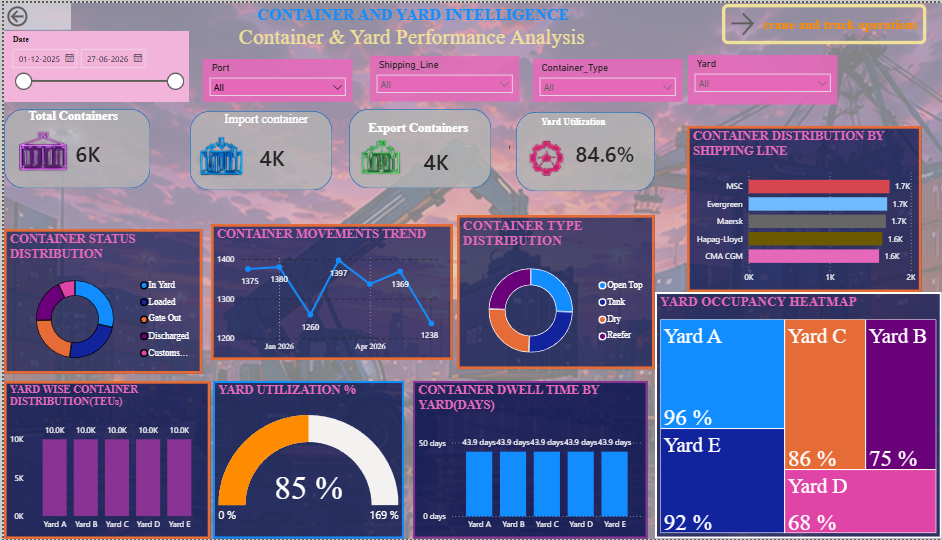

This screenshot's page, from the dashboard's own definition file:
{"tool":"powerbi","page":{"name":"Container and Yard Intelligence","canvas":[1400,800],"ordinal":1},"visuals":[{"type":"textbox","box":[295.7,0,695.7,84.1],"z":0},{"type":"slicer","fields":{"Values":["portpulse_db dim_port.Port_Name"]},"box":[296.6,83.1,223.2,63.8],"z":1000},{"type":"slicer","fields":{"Values":["portpulse_db dim_ship.Shipping_Line"]},"box":[545.8,79.7,223.2,68.1],"z":2000},{"type":"slicer","fields":{"Values":["portpulse_db fact_yard_utilization.Yard_ID"]},"box":[1020.3,78,223.2,73.9],"z":3000},{"type":"slicer","fields":{"Values":["portpulse_db dim_container.Container_Type"]},"box":[789.8,83.1,223.2,63.8],"z":4000},{"type":"donutChart","title":"CONTAINER STATUS DISTRIBUTION","fields":{"Category":["portpulse_db fact_container_movement.Status"],"Y":["CountNonNull(portpulse_db fact_container_movement.Container_ID)"]},"box":[0,336.7,295.7,215.9],"z":5000},{"type":"lineChart","title":"CONTAINER MOVEMENTS TREND","fields":{"Y":["portpulse_db fact_container_movement.Total Container Movements"],"Category":["portpulse_db dim_date.Date.Variation.Date Hierarchy.Year","portpulse_db dim_date.Date.Variation.Date Hierarchy.Month"]},"box":[308.5,330.5,360.9,202.9],"z":6000},{"type":"donutChart","title":"CONTAINER TYPE DISTRIBUTION","fields":{"Category":["portpulse_db dim_container.Container_Type"],"Y":["CountNonNull(portpulse_db fact_container_movement.Container_ID)"]},"box":[676.7,316.7,295,230],"z":7000},{"type":"barChart","title":"CONTAINER DISTRIBUTION BY SHIPPING LINE","fields":{"Category":["portpulse_db dim_ship.Shipping_Line"],"Y":["CountNonNull(portpulse_db fact_container_movement.Container_ID)"]},"box":[1020,183.3,350,248.3],"z":8000},{"type":"columnChart","title":"YARD WISE CONTAINER DISTRIBUTION(TEUs)","fields":{"Y":["CountNonNull(portpulse_db fact_container_movement.Container_ID)"],"Category":["portpulse_db fact_yard_utilization.Yard_ID"]},"box":[0,564.4,308.5,235.6],"z":9000},{"type":"gauge","title":"YARD UTILIZATION  %","fields":{"Y":["Avg(portpulse_db fact_yard_utilization.Utilization_Percentage)"]},"box":[311.9,564.4,285,235],"z":10000},{"type":"columnChart","title":"CONTAINER DWELL TIME BY YARD(DAYS)","fields":{"Category":["portpulse_db fact_yard_utilization.Yard_ID"],"Y":["portpulse_db fact_container_movement.Avg Dwell Time"]},"box":[610.2,564.4,350,235],"z":11000},{"type":"treemap","title":"YARD OCCUPANCY HEATMAP","fields":{"Group":["portpulse_db fact_yard_utilization.Yard_ID"],"Values":["Avg(portpulse_db fact_yard_utilization.Utilization_Percentage)"]},"box":[971.2,431.8,427.7,367.7],"z":12000},{"type":"shape","box":[0,158.5,218.5,118.5],"z":13000},{"type":"actionButton","box":[1071.7,1.7,305,60],"z":14000},{"type":"shape","box":[515.4,158.5,212.3,118.5],"z":15000},{"type":"shape","box":[764.6,163.1,207.7,118.5],"z":16000},{"type":"shape","box":[276.9,161.5,212.3,118.5],"z":17000},{"type":"textbox","title":"Total Containers","box":[30.8,158.5,156.9,33.8],"z":18000},{"type":"image","box":[4.6,175.4,107.7,92.3],"z":19000},{"type":"cardVisual","fields":{"Data":["portpulse_db fact_container_movement.Total Container Movements"]},"box":[76.9,175.4,121.5,92.3],"z":20000},{"type":"textbox","title":"Import container","box":[324.6,163.1,138.5,33.8],"z":21000},{"type":"image","box":[281.5,181.5,84.6,92.3],"z":22000},{"type":"cardVisual","fields":{"Data":["portpulse_db fact_container_movement.Import Containers"]},"box":[352.3,181.5,136.9,92.3],"z":23000},{"type":"textbox","title":"Export Containers","box":[538.5,175.4,161.5,43.1],"z":24000},{"type":"image","box":[503.1,192.3,118.5,75.4],"z":25000},{"type":"cardVisual","fields":{"Data":["portpulse_db fact_container_movement.Export Containers"]},"box":[596.9,196.9,123.1,75.4],"z":26000},{"type":"textbox","box":[796.9,163.1,136.9,33.8],"z":27000},{"type":"image","box":[744.6,183.1,103.1,96.9],"z":28000},{"type":"cardVisual","fields":{"Data":["portpulse_db fact_yard_utilization.Avg Yard Utilization"]},"box":[824.6,166.2,153.8,113.8],"z":29000},{"type":"slicer","fields":{"Values":["portpulse_db dim_date.Date_Time"]},"box":[0,52.2,276.3,105.1],"z":30000},{"type":"actionButton","box":[0,0,100,40],"z":31000}]}

Visuals, with their boxes in screenshot pixels (x1, y1, x2, y2), scaled from the page's 1400x800 canvas onto the 942x540 screenshot:
textbox: detection(199, 0, 667, 57)
slicer - portpulse_db dim_port.Port_Name: detection(200, 56, 350, 99)
slicer - portpulse_db dim_ship.Shipping_Line: detection(367, 54, 517, 100)
slicer - portpulse_db fact_yard_utilization.Yard_ID: detection(687, 53, 837, 103)
slicer - portpulse_db dim_container.Container_Type: detection(531, 56, 682, 99)
"CONTAINER STATUS DISTRIBUTION" donutChart: detection(0, 227, 199, 373)
"CONTAINER MOVEMENTS TREND" lineChart: detection(208, 223, 450, 360)
"CONTAINER TYPE DISTRIBUTION" donutChart: detection(455, 214, 654, 369)
"CONTAINER DISTRIBUTION BY SHIPPING LINE" barChart: detection(686, 124, 922, 291)
"YARD WISE CONTAINER DISTRIBUTION(TEUs)" columnChart: detection(0, 381, 208, 539)
"YARD UTILIZATION  %" gauge: detection(210, 381, 402, 539)
"CONTAINER DWELL TIME BY YARD(DAYS)" columnChart: detection(411, 381, 646, 539)
"YARD OCCUPANCY HEATMAP" treemap: detection(653, 291, 941, 539)
shape: detection(0, 107, 147, 187)
actionButton: detection(721, 1, 926, 42)
shape: detection(347, 107, 490, 187)
shape: detection(514, 110, 654, 190)
shape: detection(186, 109, 329, 189)
"Total Containers" textbox: detection(21, 107, 126, 130)
image: detection(3, 118, 76, 181)
cardVisual - portpulse_db fact_container_movement.Total Container Movements: detection(52, 118, 133, 181)
"Import container" textbox: detection(218, 110, 312, 133)
image: detection(189, 123, 246, 185)
cardVisual - portpulse_db fact_container_movement.Import Containers: detection(237, 123, 329, 185)
"Export Containers" textbox: detection(362, 118, 471, 147)
image: detection(339, 130, 418, 181)
cardVisual - portpulse_db fact_container_movement.Export Containers: detection(402, 133, 484, 184)
textbox: detection(536, 110, 628, 133)
image: detection(501, 124, 570, 189)
cardVisual - portpulse_db fact_yard_utilization.Avg Yard Utilization: detection(555, 112, 658, 189)
slicer - portpulse_db dim_date.Date_Time: detection(0, 35, 186, 106)
actionButton: detection(0, 0, 67, 27)
